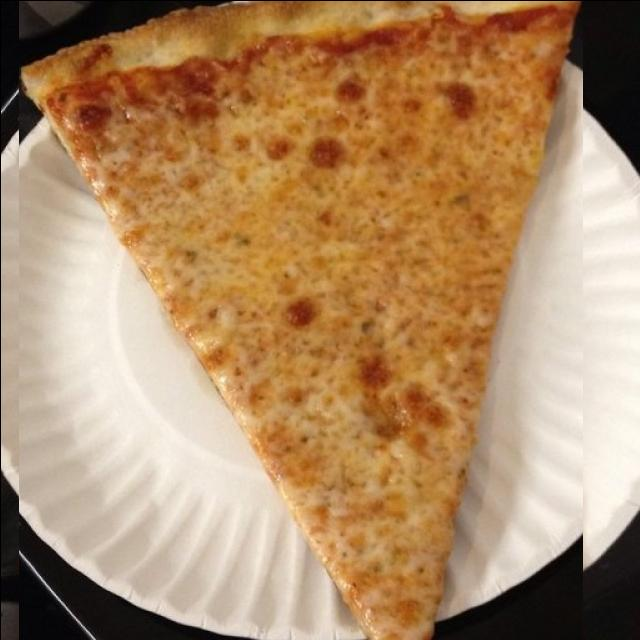pizza: (18, 0, 582, 640)
